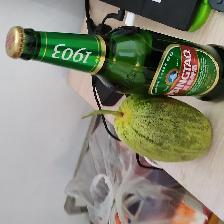gua: (111, 98, 213, 161)
